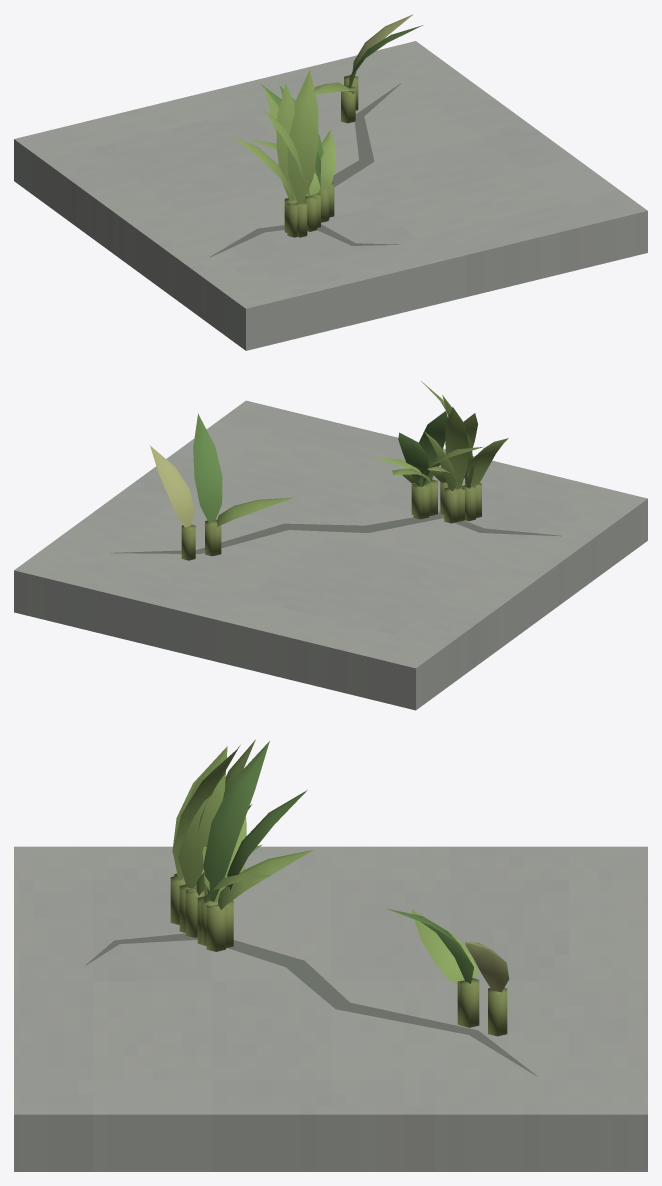
The model's file is 009_cracked_paving.glb.
3 views of the same model, one above another, from view 1: azimuth 30°, elevation 25°; view 2: azimuth 150°, elevation 25°; view 3: azimuth 270°, elevation 25° (orthographic). The views are drawn at different scales.
Parts seen in each view (by area): view 1: GND-009_Paving_2x2, grass_cluster_00, grass_cluster_01, GND-009_Main_hairline; view 2: GND-009_Paving_2x2, grass_cluster_00, grass_cluster_01, GND-009_Main_hairline; view 3: GND-009_Paving_2x2, grass_cluster_00, grass_cluster_01, GND-009_Main_hairline, GND-009_Short_branch.
Part boxes in pixels (box(x1,y1,x2,y2)): GND-009_Paving_2x2: box(14, 41, 647, 350); grass_cluster_00: box(232, 70, 335, 237); grass_cluster_01: box(314, 14, 423, 123); GND-009_Main_hairline: box(210, 83, 401, 257); GND-009_Paving_2x2: box(14, 400, 647, 710); grass_cluster_00: box(375, 381, 508, 523); grass_cluster_01: box(150, 413, 292, 560); GND-009_Main_hairline: box(110, 513, 561, 553); GND-009_Paving_2x2: box(14, 846, 647, 1171); grass_cluster_00: box(170, 739, 313, 951); grass_cluster_01: box(386, 908, 509, 1036); GND-009_Main_hairline: box(197, 937, 536, 1076); GND-009_Short_branch: box(85, 933, 197, 965).
Bounding box in the file's own units: 0.8 × 0.3533 × 0.8.
Materials: 6 (1 with a texture image).
